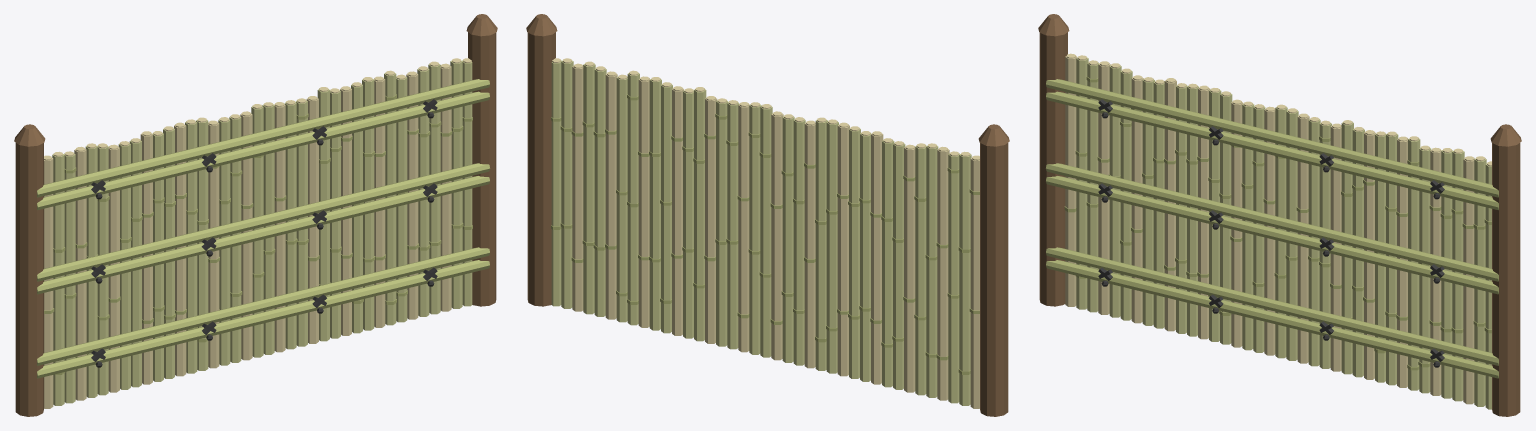
The model's file is jp_bamboo_fence.glb.
3 renders of one model, left to right at view 1: azimuth 30°, elevation 25°; view 2: azimuth 150°, elevation 25°; view 3: azimuth 330°, elevation 25°, orthographic.
Parts seen in each view (by area): view 1: jp_bamboo_fence; view 2: jp_bamboo_fence; view 3: jp_bamboo_fence.
Boxes of the visible parts, <box> form: jp_bamboo_fence: <box>14,14,497,416</box>; jp_bamboo_fence: <box>526,14,1009,416</box>; jp_bamboo_fence: <box>1038,14,1521,416</box>.
Size of the model in its own units: 1.9 by 1.08 by 0.129.
